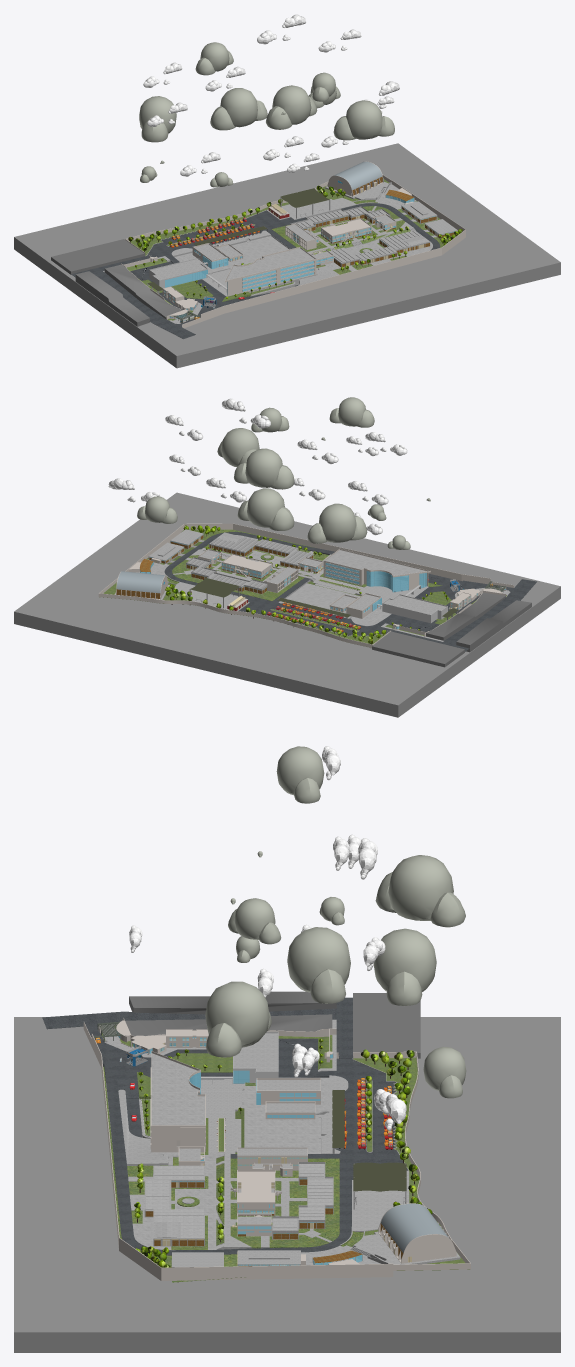
Rendered from tecsup-2.glb.
The picture shows the model from 3 angles, top to bottom: view 1: azimuth 30°, elevation 25°; view 2: azimuth 150°, elevation 25°; view 3: azimuth 270°, elevation 25°; orthographic projection. The views are drawn at different scales.
Visible parts, largest first — view 1: Box036, muros dep002, Object083, Pista, manzaneo, Line069, Cloud_2.007, Cloud_2.009, Cloud_2.001, Arbol 053, Cloud_2.008, vidrio001 (+8 smaller); view 2: Box036, muros dep002, Object083, Pista, manzaneo, Line069, Cloud_2.001, Cloud_2.008, Cloud_2.009, Arbol 053, vidrio001, tech come (+10 smaller); view 3: Box036, muros dep002, Object083, Pista, Line069, manzaneo, Cloud_2.008, Cloud_2.007, Cloud_2.001, Cloud_2.009, Arbol 053, rashell005 (+8 smaller).
Boxes of the visible parts, x1,y1,x2,y2 form: Box036: [14, 143, 560, 368]; muros dep002: [103, 182, 457, 323]; Object083: [121, 161, 465, 328]; Pista: [71, 203, 440, 338]; manzaneo: [51, 239, 182, 326]; Line069: [127, 179, 459, 320]; Cloud_2.007: [333, 100, 394, 140]; Cloud_2.009: [210, 88, 267, 130]; Cloud_2.001: [266, 85, 317, 129]; Arbol 053: [128, 185, 462, 298]; Cloud_2.008: [139, 96, 176, 142]; vidrio001: [194, 218, 395, 294]; Box036: [14, 492, 560, 717]; muros dep002: [115, 529, 510, 641]; Object083: [98, 523, 514, 647]; Pista: [164, 532, 536, 651]; manzaneo: [372, 592, 531, 667]; Line069: [99, 529, 506, 644]; Cloud_2.001: [234, 448, 294, 489]; Cloud_2.008: [307, 503, 367, 543]; Cloud_2.009: [237, 488, 294, 530]; Arbol 053: [165, 525, 448, 644]; vidrio001: [210, 553, 426, 628]; tech come: [116, 535, 323, 598]; Box036: [14, 1017, 560, 1352]; muros dep002: [100, 1019, 460, 1267]; Object083: [83, 1018, 470, 1280]; Pista: [42, 997, 407, 1255]; Line069: [102, 1025, 469, 1282]; manzaneo: [125, 991, 420, 1058]; Cloud_2.008: [375, 855, 465, 927]; Cloud_2.007: [205, 981, 271, 1057]; Cloud_2.001: [287, 927, 350, 1003]; Cloud_2.009: [373, 928, 436, 1005]; Arbol 053: [134, 1038, 432, 1267]; rashell005: [332, 1090, 406, 1191].
Bounding box in the file's own units: 366 × 208 × 265.
270 materials, 77 textured.
